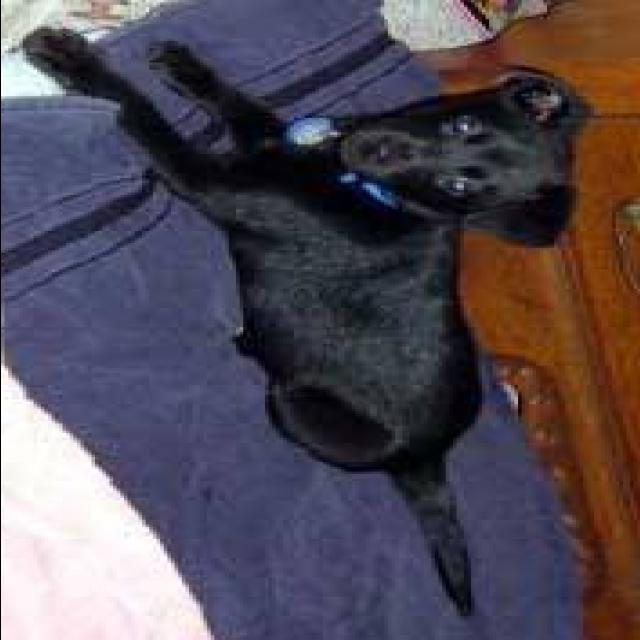dog: (29, 26, 606, 640)
